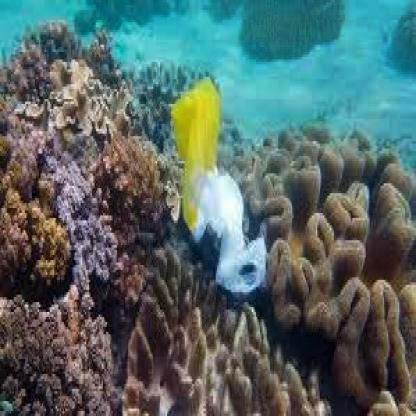pbag: (170, 76, 267, 294)
